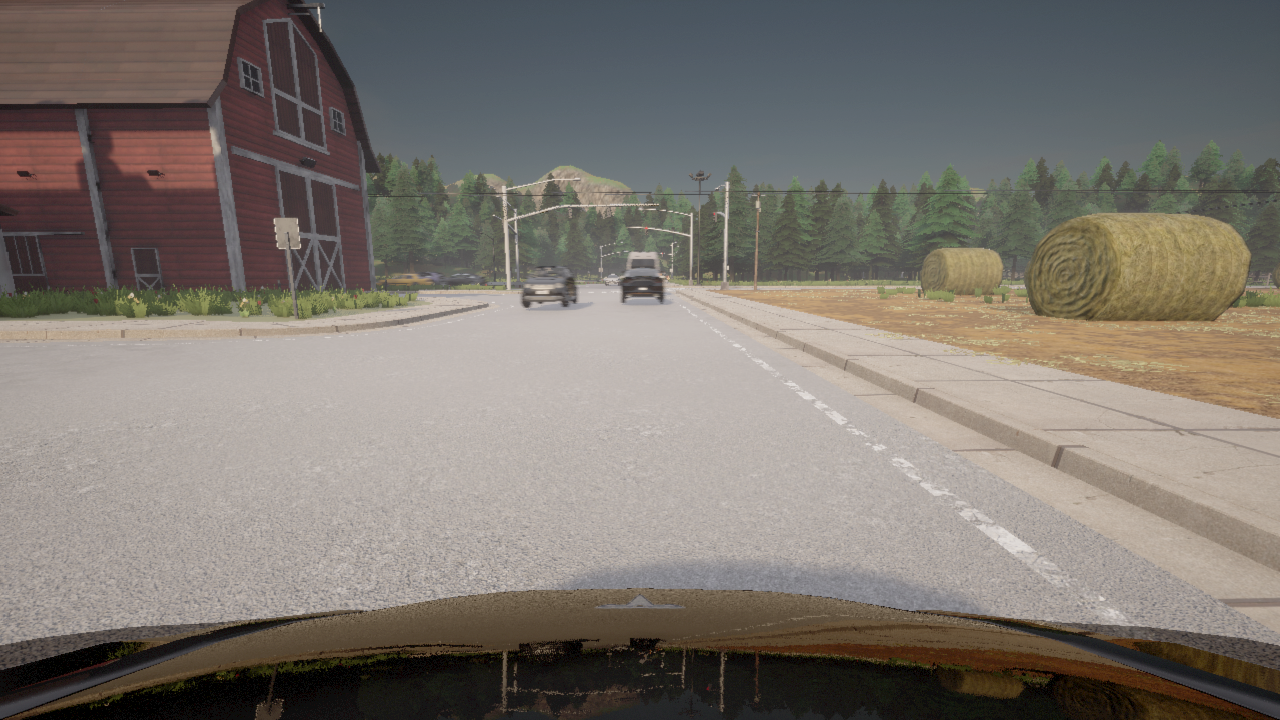cyclist: (0, 588, 1279, 719), (520, 265, 577, 307), (620, 265, 664, 302), (376, 272, 432, 286), (436, 273, 487, 287), (626, 252, 659, 271), (414, 272, 446, 284), (605, 274, 620, 285)
pedestrian: (663, 271, 665, 282), (667, 276, 669, 280), (666, 272, 667, 277), (659, 273, 661, 275)
